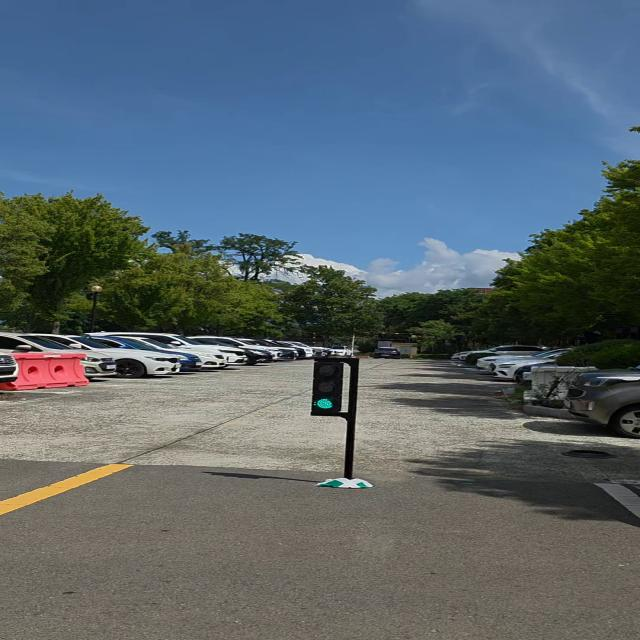green: (311, 355, 356, 416)
